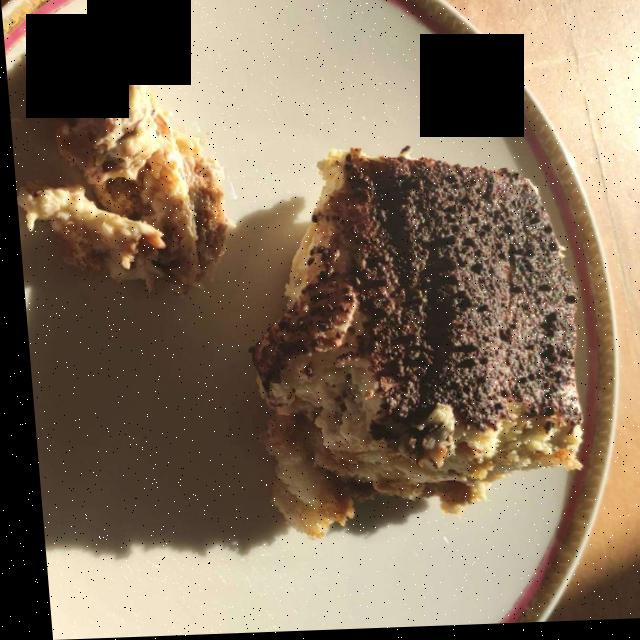tiramisu: (29, 41, 593, 512)
